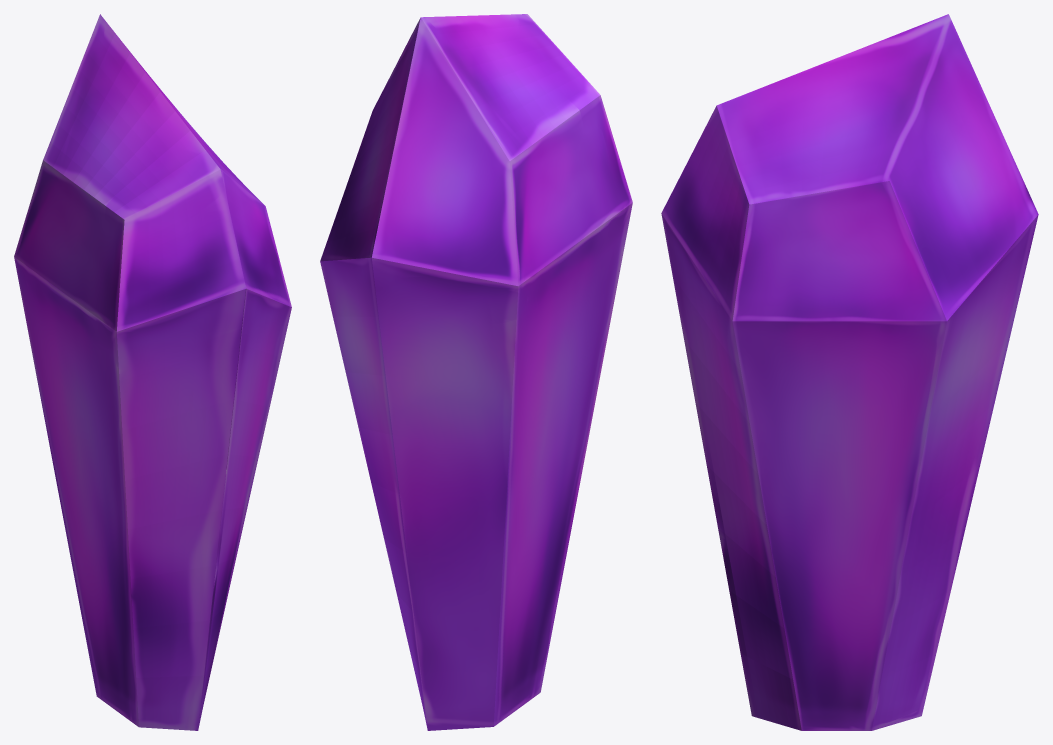
The model's file is thystame.glb.
3 renders of one model, left to right at view 1: azimuth 30°, elevation 25°; view 2: azimuth 150°, elevation 25°; view 3: azimuth 270°, elevation 25°, orthographic. The views are drawn at different scales.
Visible parts, largest first — view 1: Pink_Crystal_0; view 2: Pink_Crystal_0; view 3: Pink_Crystal_0.
Part boxes in pixels (x1=…): Pink_Crystal_0: x1=14, y1=14, x2=291, y2=730; Pink_Crystal_0: x1=320, y1=14, x2=632, y2=730; Pink_Crystal_0: x1=661, y1=14, x2=1038, y2=730.
Size of the model in its own units: 5.73 by 20.02 by 9.8.
1 material, 1 textured.
